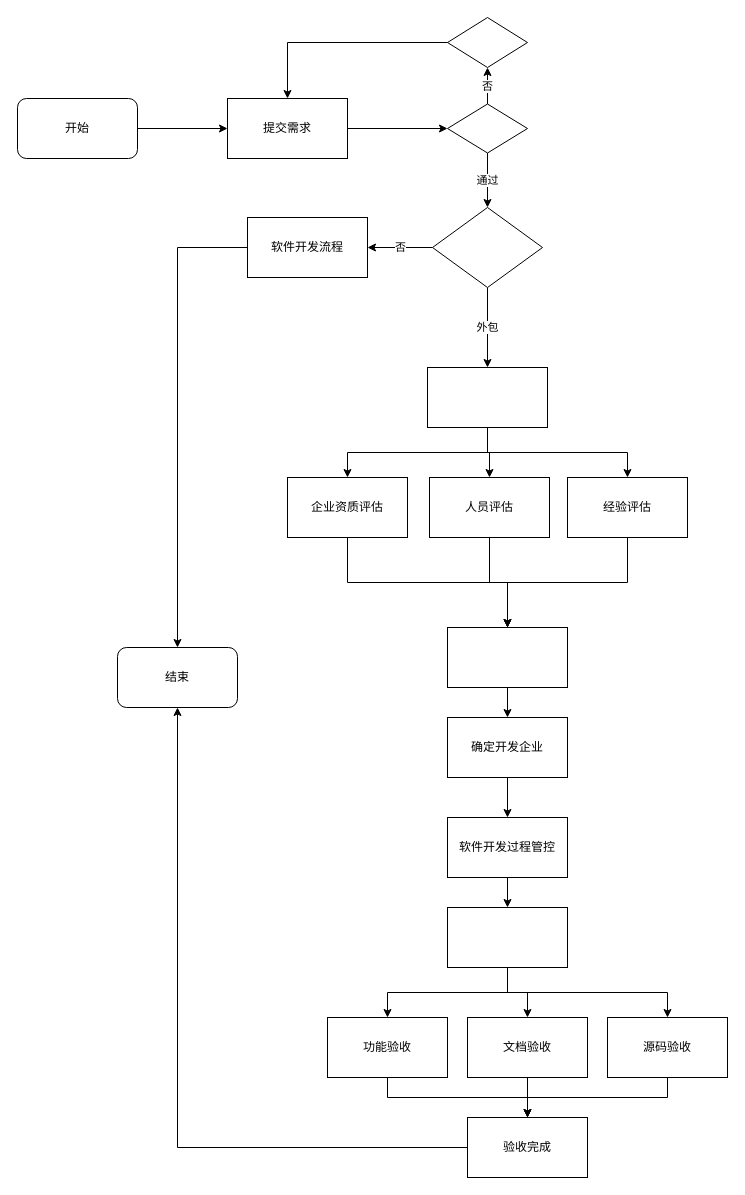
The diagram is 745 pixels wide and 1195 high, and some of its shapes have lost their labels. Here are the shapes that lost their labels. From the top down, the centre of each, then its label:
the point at 487,42: 修改需求
the point at 487,128: 需求评审
the point at 487,247: 软件功能细化 判断是否外包
the point at 487,397: 外包企业选型
the point at 507,657: 公开招标
the point at 507,937: 软件验收
